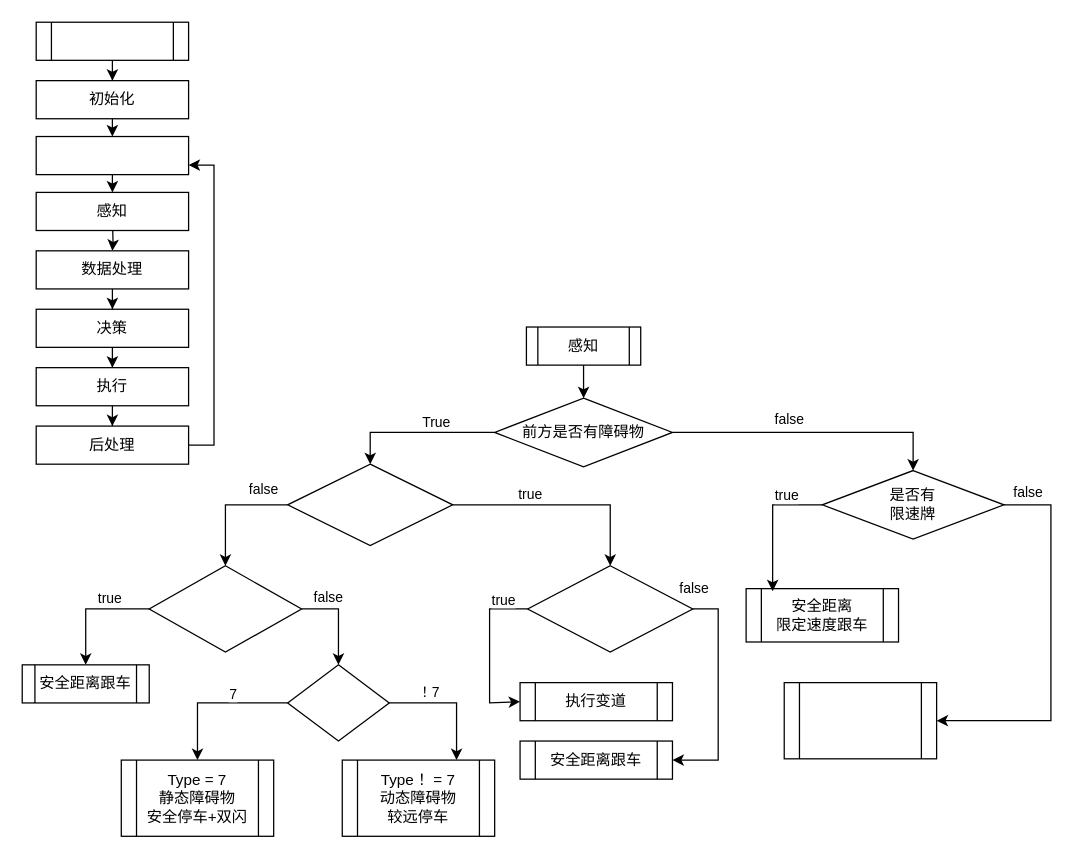
Image size: 1083x859. Some labels were removed from this diagram. The shapes that lost their labels are listed below. From the top down, each one's centre as x and y in pixels, then its label:
At (x=112, y=40): "决策树".
At (x=112, y=155): "预处理".
At (x=369, y=504): "是否有 变道可能".
At (x=225, y=608): "是否保持 安全距离".
At (x=609, y=608): "是否满足 变道距离要求".
At (x=337, y=702): "障碍物 Type".
At (x=860, y=720): "安全距离 默认速度跟车".
